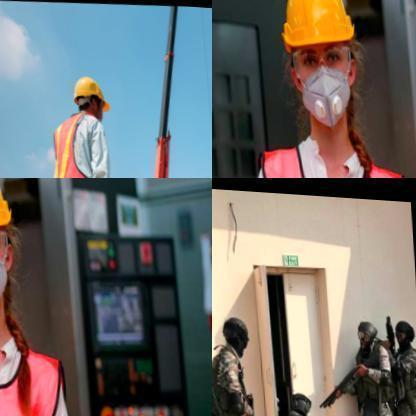Boots: (279, 0, 365, 56), (70, 72, 111, 109)
Glass: (54, 104, 116, 176)
